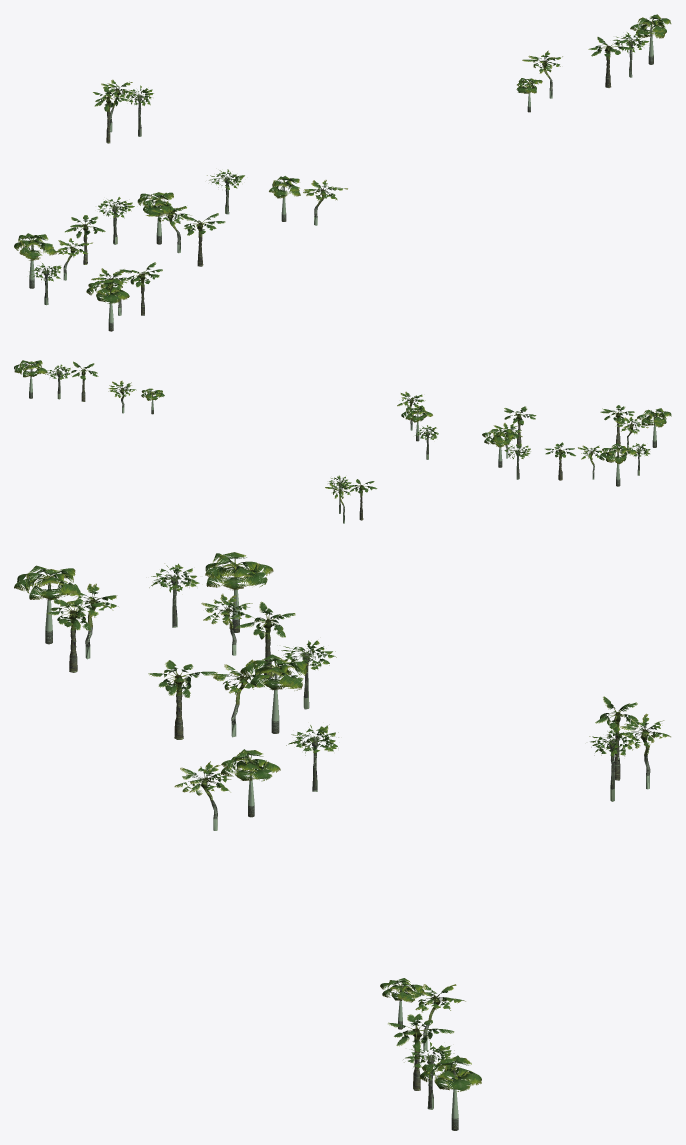
3 renders of one model, top to bottom at view 1: azimuth 30°, elevation 25°; view 2: azimuth 150°, elevation 25°; view 3: azimuth 270°, elevation 25°, orthographic. The views are drawn at different scales.
Visible parts, largest first — view 1: Dragonfly Lake palm grove; view 2: Dragonfly Lake palm grove; view 3: Dragonfly Lake palm grove.
Part boxes in pixels (x1,y1,x2,y2): Dragonfly Lake palm grove: [14, 14, 671, 331]; Dragonfly Lake palm grove: [14, 360, 671, 523]; Dragonfly Lake palm grove: [14, 552, 670, 1130].
Size of the model in its own units: 126 by 8.51 by 66.11.
Materials: 1 (1 with a texture image).
